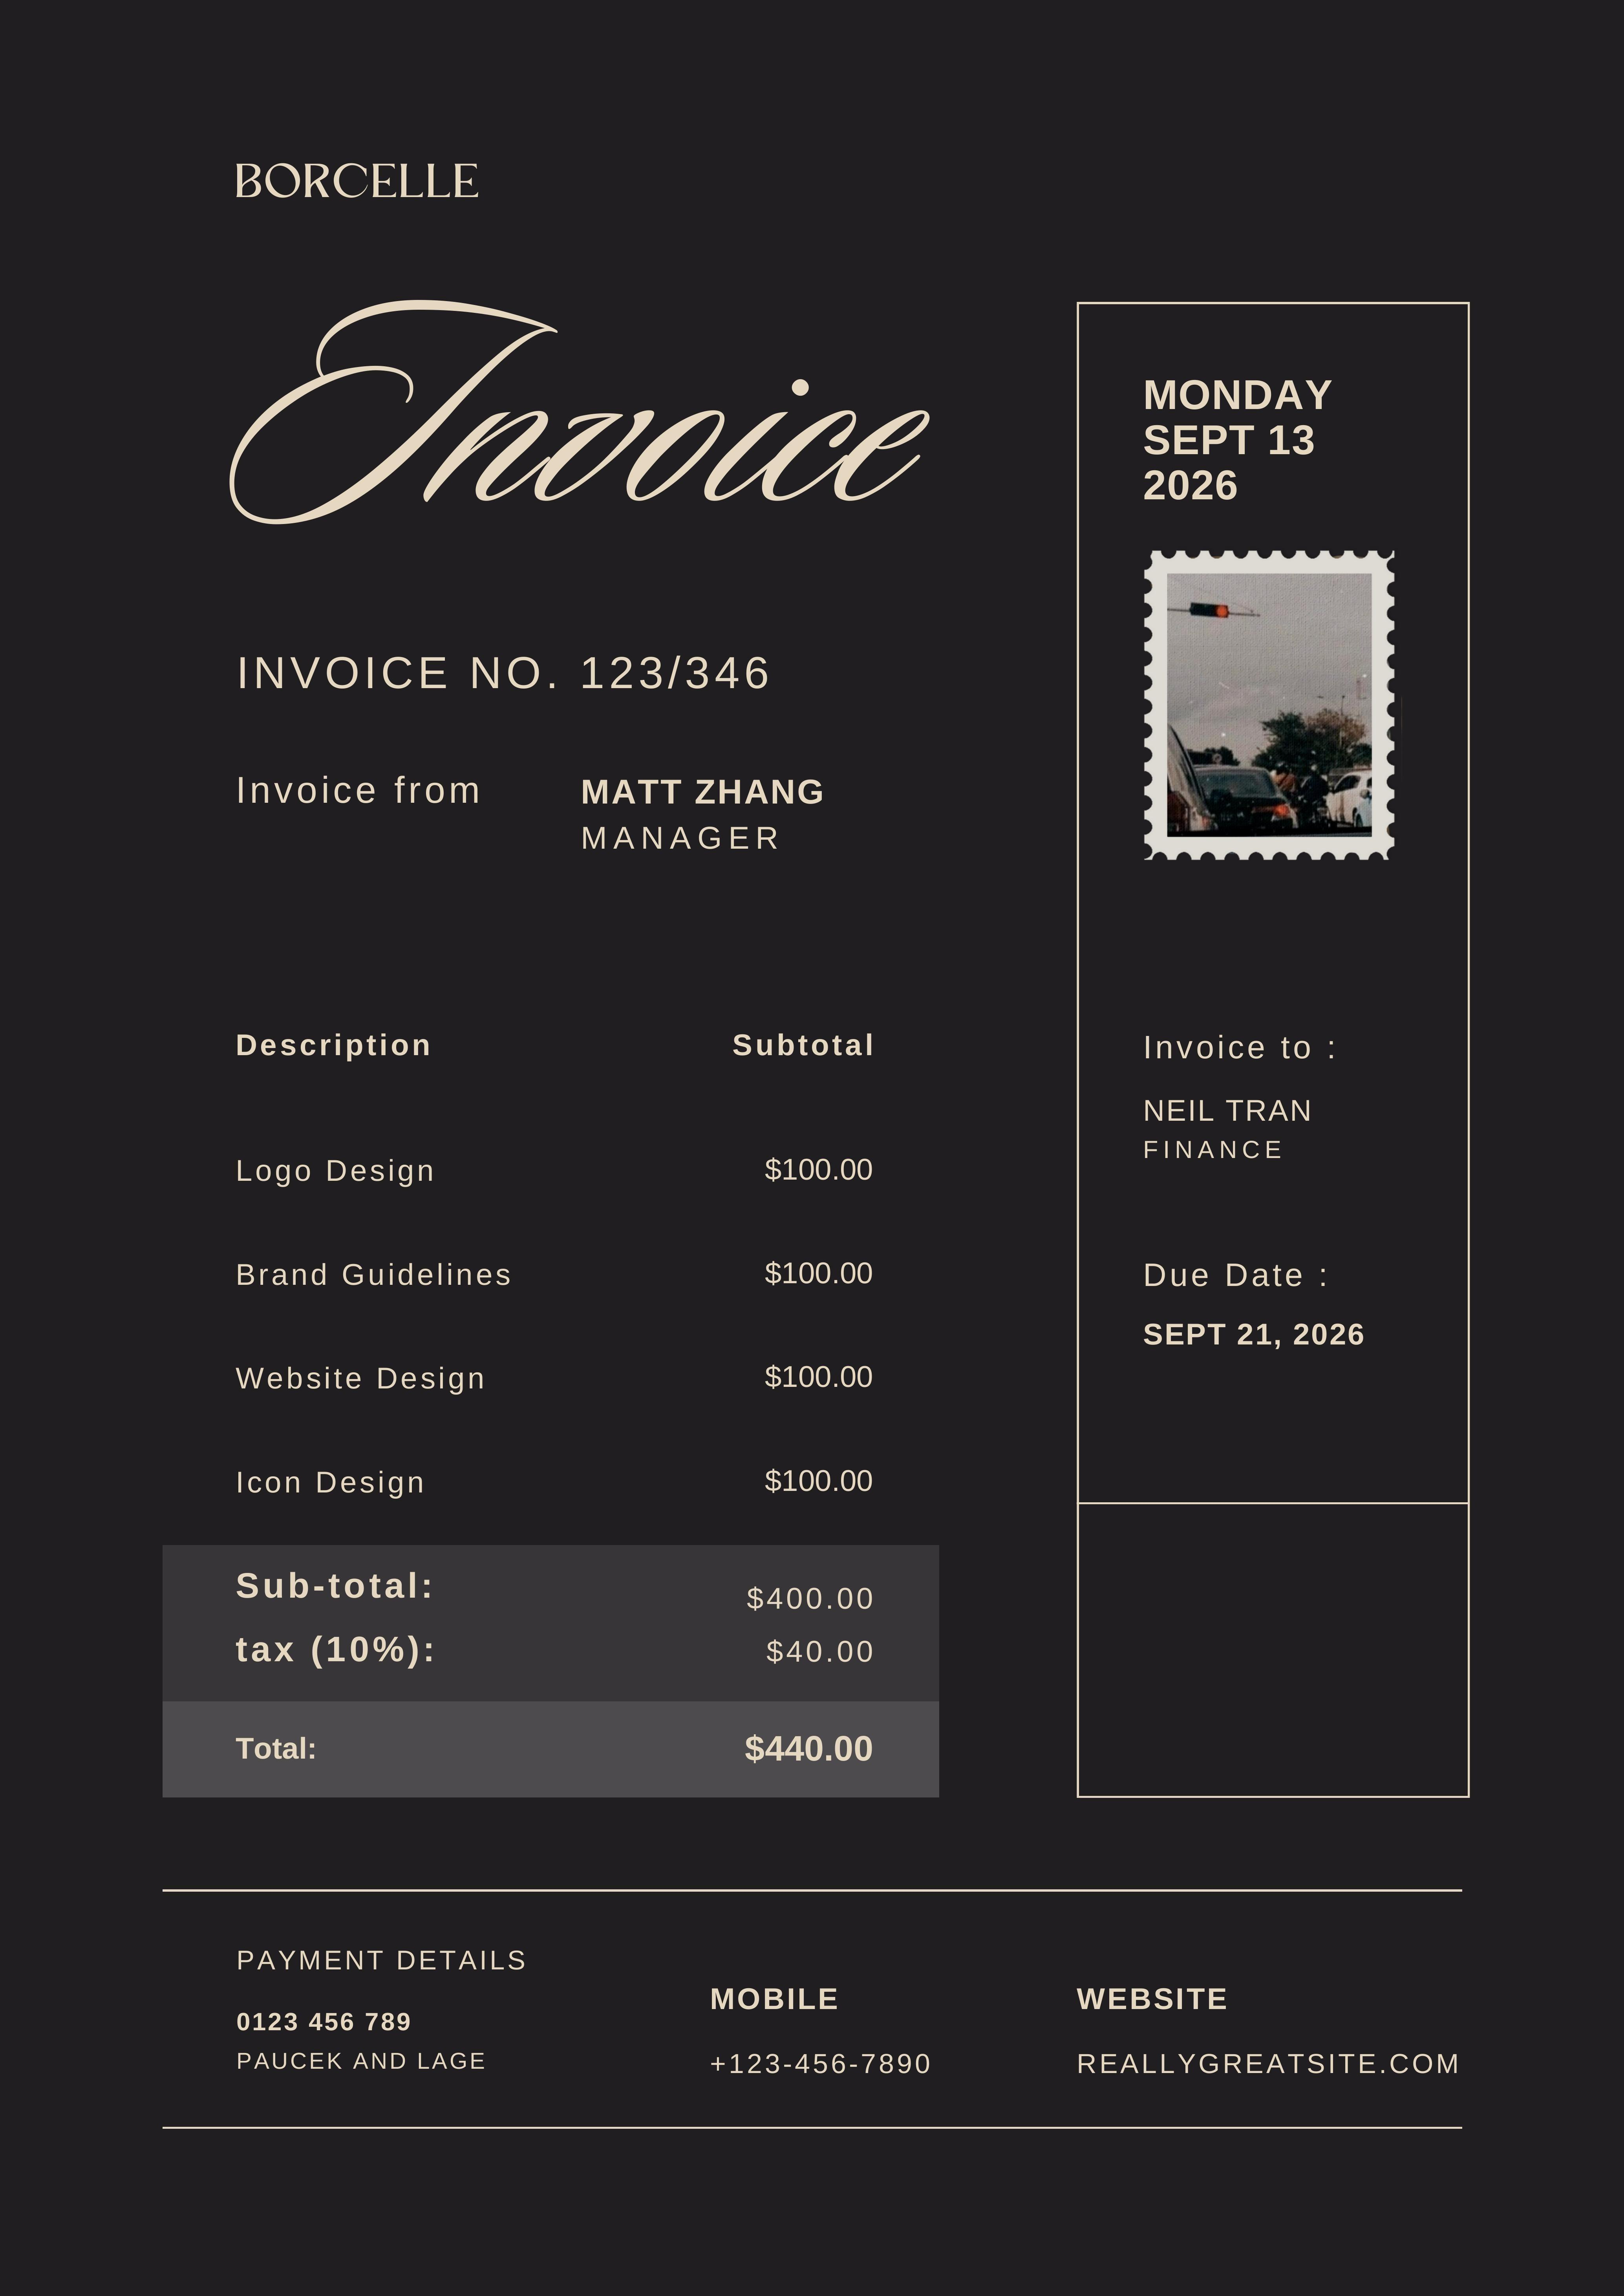ROI: (163, 1004, 934, 1532), (168, 1550, 936, 1801), (218, 631, 882, 868), (182, 1906, 591, 2112), (1132, 1006, 1357, 1200), (201, 125, 515, 258)
